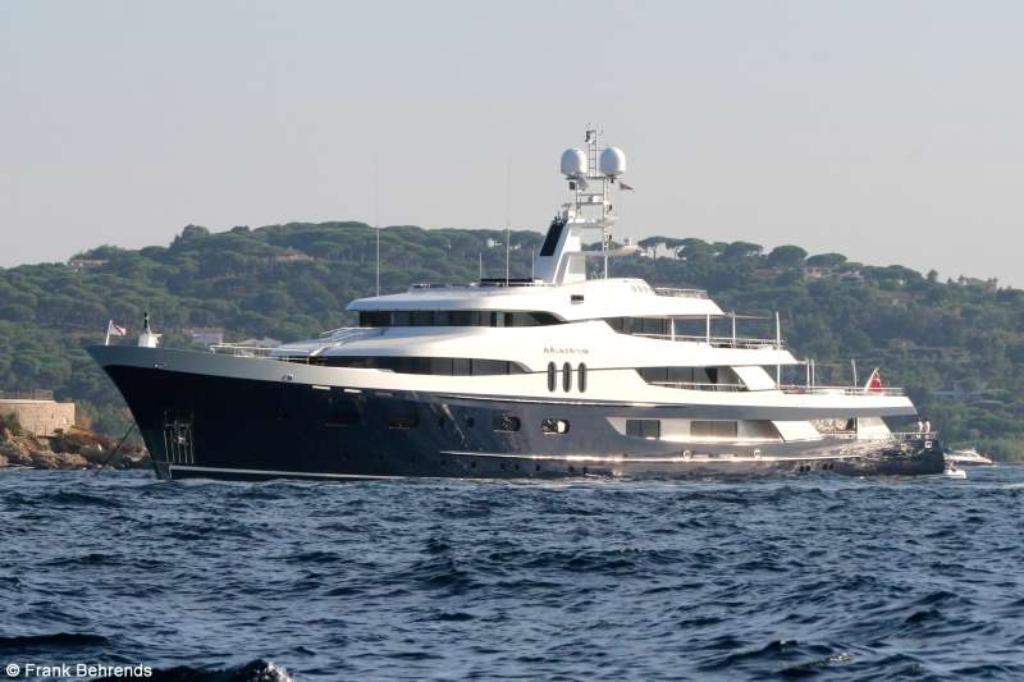PassengerShip: (81, 122, 953, 476)
